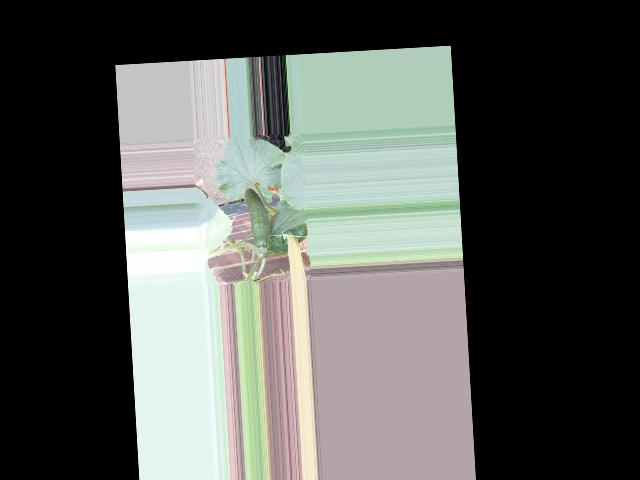cucumber: (243, 187, 270, 249)
